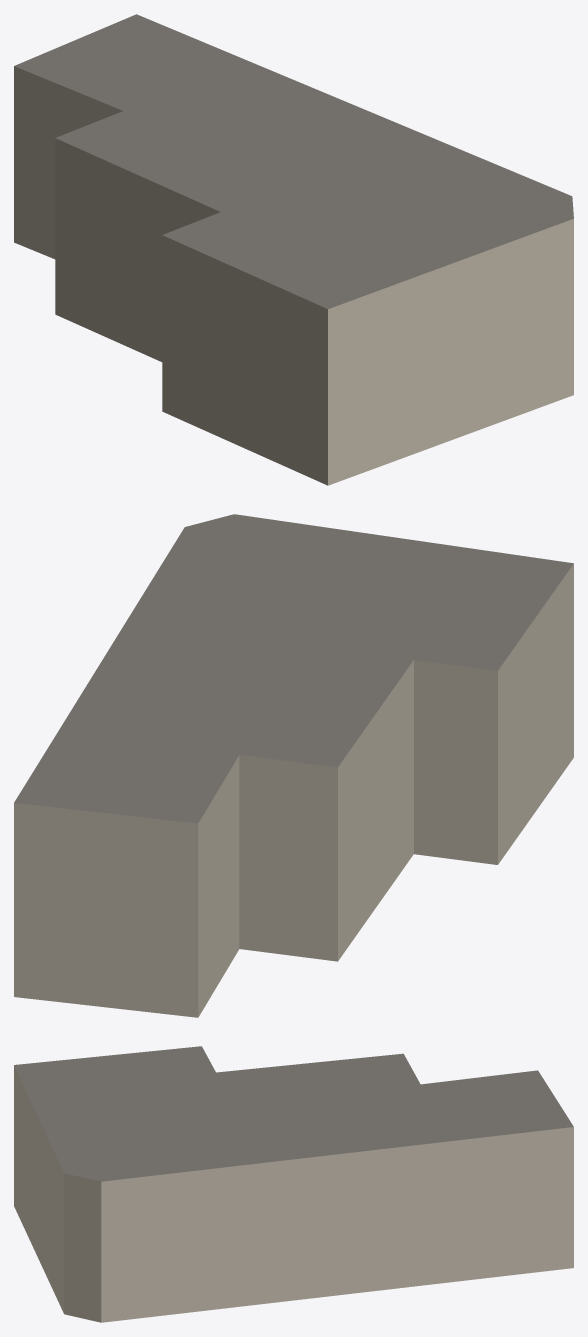
3 renders of one model, top to bottom at view 1: azimuth 30°, elevation 25°; view 2: azimuth 150°, elevation 25°; view 3: azimuth 270°, elevation 25°, orthographic. The views are drawn at different scales.
Visible parts, largest first — view 1: HP-w380339927; view 2: HP-w380339927; view 3: HP-w380339927.
Boxes of the visible parts, x1,y1,x2,y2 form: HP-w380339927: [14, 14, 573, 485]; HP-w380339927: [14, 514, 573, 1017]; HP-w380339927: [14, 1046, 573, 1322].
Bounding box in the file's own units: 24.72 × 12 × 43.16.
